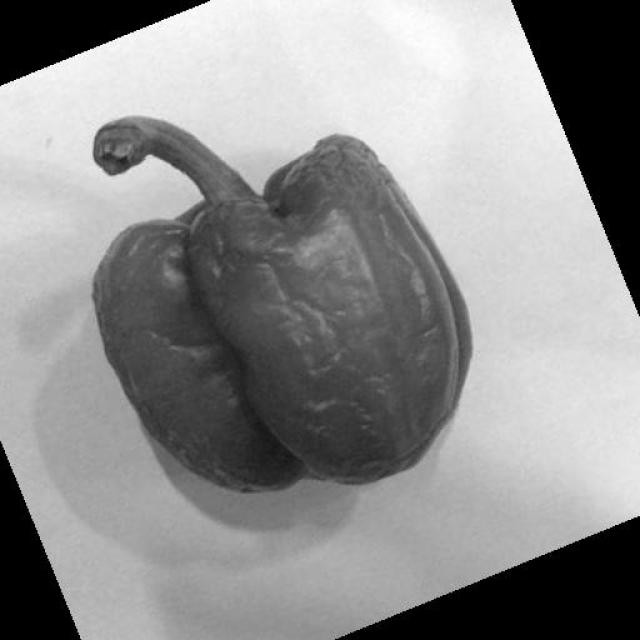Stale_Capsicum: (67, 117, 460, 481)
